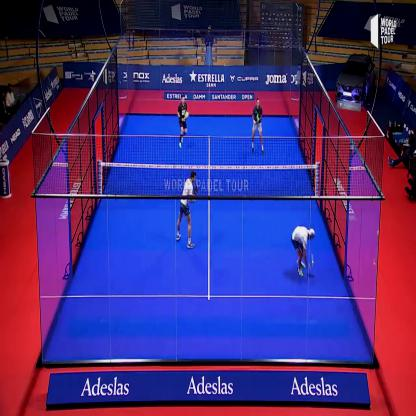ball: (310, 252, 316, 272)
